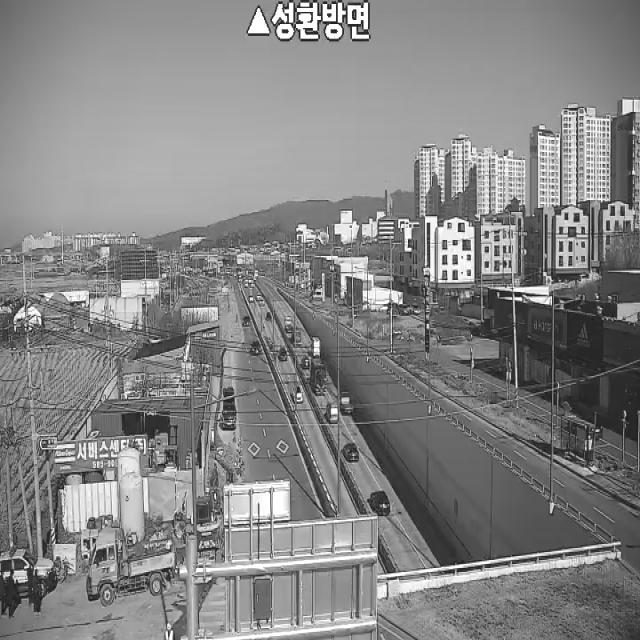Car: (0, 546, 57, 601), (572, 414, 602, 442), (370, 491, 390, 515), (341, 442, 359, 462), (326, 402, 338, 423), (292, 384, 304, 404), (249, 340, 262, 354), (278, 345, 288, 361), (302, 356, 310, 369), (243, 316, 251, 326), (266, 312, 272, 321), (258, 298, 264, 306)
Truck: (86, 526, 175, 607), (182, 473, 228, 574), (310, 356, 327, 396), (222, 385, 235, 429), (341, 392, 354, 414), (292, 321, 302, 346), (311, 336, 321, 359), (284, 316, 294, 332)
